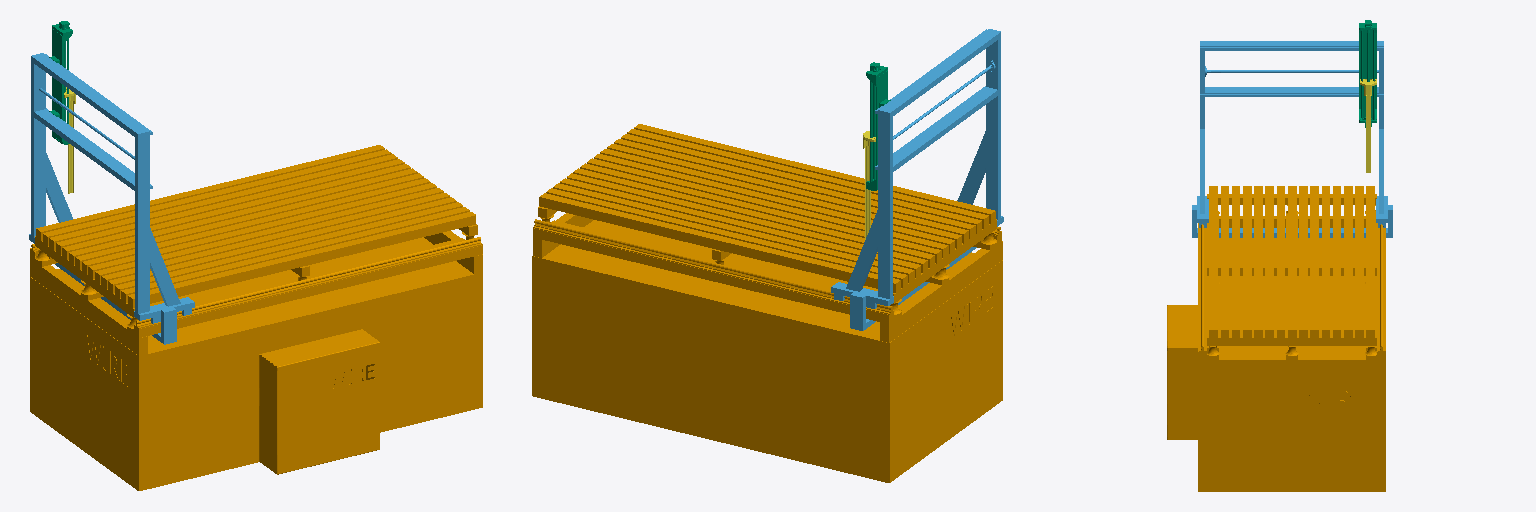
URDF robot description (xyzRobot):
<?xml version='1.0' encoding='utf-8'?>
<robot name="xyzRobot">
    <link name="base">
        <inertial>
            <origin xyz="1.0019805717196197 0.5482148756181827 0.6990358370739002" rpy="0.0 0.0 0.0" />
            <mass value="232.08708264134552" />
            <inertia ixx="53.771039070637116" iyy="165.47416661662493" izz="166.67602357463159" ixy="0.017115787921939397" iyz="-0.34492251172159305" ixz="-0.0017829666032329102" />
        </inertial>
        <visual name="base_visual">
            <origin xyz="0.0 0.0 0.0" rpy="0.0 0.0 0.0" />
            <geometry>
                <mesh filename="meshes/base.stl" scale="0.001 0.001 0.001" />
            </geometry>
        </visual>
        <collision name="base_collision">
            <origin xyz="0.0 0.0 0.0" rpy="0.0 0.0 0.0" />
            <geometry>
                <mesh filename="meshes/base.stl" scale="0.001 0.001 0.001" />
            </geometry>
        </collision>
    </link>
    <link name="eixoY">
        <inertial>
            <origin xyz="0.4060404340387578 0.5244120549871636 -0.09288610371215256" rpy="1.0947644252537636e-47 -0.0 0.0" />
            <mass value="13.830381306005401" />
            <inertia ixx="2.9193671992233803" iyy="2.6574928595181992" izz="5.433723795128172" ixy="0.0037911296409589563" iyz="0.00047048627322787684" ixz="-0.30084064499038016" />
        </inertial>
        <visual name="eixoY_visual">
            <origin xyz="-0.9269999988429695 -0.3612327221578232 1.0336182798923392" rpy="-9.213916994366027e-16 1.5707963267948943 0" />
            <geometry>
                <mesh filename="meshes/eixoY.stl" scale="0.001 0.001 0.001" />
            </geometry>
        </visual>
        <collision name="eixoY_collision">
            <origin xyz="-0.9269999988429695 -0.3612327221578232 1.0336182798923392" rpy="-9.213916994366027e-16 1.5707963267948943 0" />
            <geometry>
                <mesh filename="meshes/eixoY.stl" scale="0.001 0.001 0.001" />
            </geometry>
        </collision>
    </link>
    <link name="eixoX-v2">
        <inertial>
            <origin xyz="0.031961418696825776 -0.1266569270360526 0.094011061907635" rpy="0.0 -0.0 0.0" />
            <mass value="1.4549802318089322" />
            <inertia ixx="0.06502074838557625" iyy="0.0016130575627411048" izz="0.06453267423902531" ixy="0.00011272892626923436" iyz="-1.0111570789733259e-06" ixz="2.987292889064413e-08" />
        </inertial>
        <visual name="eixoX-v2_visual">
            <origin xyz="1.198618281597412 -1.9569858088429868 -0.4478545644014216" rpy="1.5707963267948937 1.6049661599737403e-14 -3.141592653589791" />
            <geometry>
                <mesh filename="meshes/eixoX-v2.stl" scale="0.001 0.001 0.001" />
            </geometry>
        </visual>
        <collision name="eixoX-v2_collision">
            <origin xyz="1.198618281597412 -1.9569858088429868 -0.4478545644014216" rpy="1.5707963267948937 1.6049661599737403e-14 -3.141592653589791" />
            <geometry>
                <mesh filename="meshes/eixoX-v2.stl" scale="0.001 0.001 0.001" />
            </geometry>
        </collision>
    </link>
    <link name="eixoZ-v2">
        <inertial>
            <origin xyz="0.007231592786932453 -2.5897172406530443e-09 0.3307391563302349" rpy="0.0 -0.0 0.0" />
            <mass value="0.3253389326403298" />
            <inertia ixx="0.011224791381171384" iyy="0.011250628548805652" izz="0.00016015358491072718" ixy="-1.1857181902996672e-13" iyz="-6.260547635861258e-12" ixz="0.0002491754925189049" />
        </inertial>
        <visual name="eixoZ-v2_visual">
            <origin xyz="1.1158682812506207 0.5418545656567351 -1.4096007248743978" rpy="3.237241125936945e-15 4.529588311450475e-15 3.1415926535897727" />
            <geometry>
                <mesh filename="meshes/eixoZ-v2.stl" scale="0.001 0.001 0.001" />
            </geometry>
        </visual>
        <collision name="eixoZ-v2_collision">
            <origin xyz="1.1158682812506207 0.5418545656567351 -1.4096007248743978" rpy="3.237241125936945e-15 4.529588311450475e-15 3.1415926535897727" />
            <geometry>
                <mesh filename="meshes/eixoZ-v2.stl" scale="0.001 0.001 0.001" />
            </geometry>
        </collision>
    </link>
    <joint name="eixoY" type="prismatic">
        <origin xyz="0.001999999147485312 0.026999995107049878 0.9269999988429788" rpy="-6.106226635438337e-16 -1.5707963267948932 0" />
        <parent link="base" />
        <child link="eixoY" />
        <axis xyz="7.888609052210118e-31 -7.547490628539741e-32 0.9999999999999999" />
        <limit lower="-1.68" upper="0.0" effort="1000000" velocity="1000000" />
    </joint>
    <joint name="eixoX" type="prismatic">
        <origin xyz="1.0299858100000001 1.0649997199999999 -0.085" rpy="1.5707963267948963 1.5707963267948966 0" />
        <parent link="eixoY" />
        <child link="eixoX-v2" />
        <axis xyz="-9.450718910749881e-32 -2.631639762074445e-16 1.0" />
        <limit lower="0.0" upper="0.89" effort="1000000" velocity="1000000" />
    </joint>
    <joint name="eixoZ" type="prismatic">
        <origin xyz="0.08259920000000051 -0.4194999999999999 0.0941886599999998" rpy="-1.5707963267948963 -5.500804313589949e-31 3.9443045261050577e-31" />
        <parent link="eixoX-v2" />
        <child link="eixoZ-v2" />
        <axis xyz="3.944304526105059e-31 0.0 1.0" />
        <limit lower="-0.495" upper="-0.05" effort="1000000" velocity="1000000" />
    </joint>
</robot>

--- Facts derived from the render (not from the file) ---
Views: 3 orthographic renders of the robot side by side, from view 1: azimuth 30°, elevation 25°; view 2: azimuth 150°, elevation 25°; view 3: azimuth 270°, elevation 25°.
Model xyzRobot with 4 links and 3 joints (3 prismatic), rooted at base, posed joints at zero except 1 at the middle of their limits (eixoZ = -0.2725).
Links seen in each view (by area): view 1: base, eixoY, eixoX-v2; view 2: base, eixoY, eixoX-v2, eixoZ-v2; view 3: base, eixoY, eixoX-v2, eixoZ-v2.
Link boxes in pixels (<box>): base: <box>30,145,482,490</box>; eixoY: <box>29,53,194,344</box>; eixoX-v2: <box>49,21,72,144</box>; base: <box>532,124,1002,482</box>; eixoY: <box>831,29,1003,330</box>; eixoX-v2: <box>866,62,890,190</box>; eixoZ-v2: <box>863,131,875,239</box>; base: <box>1167,186,1385,491</box>; eixoY: <box>1192,41,1392,237</box>; eixoX-v2: <box>1359,20,1376,127</box>; eixoZ-v2: <box>1360,79,1376,172</box>.
Size in the robot's own frame: 2.03 by 1.32 by 2.17 metres.
Meshes: 4 distinct files referenced, 4 mesh visuals loaded (4 binary STL).